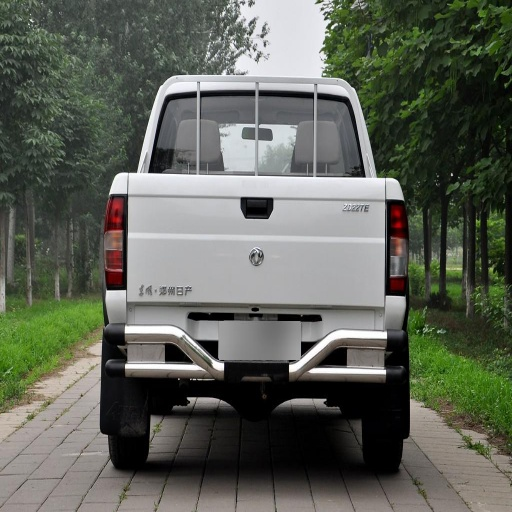back_bumper: (115, 323, 216, 378)
trunk: (111, 177, 392, 342)
